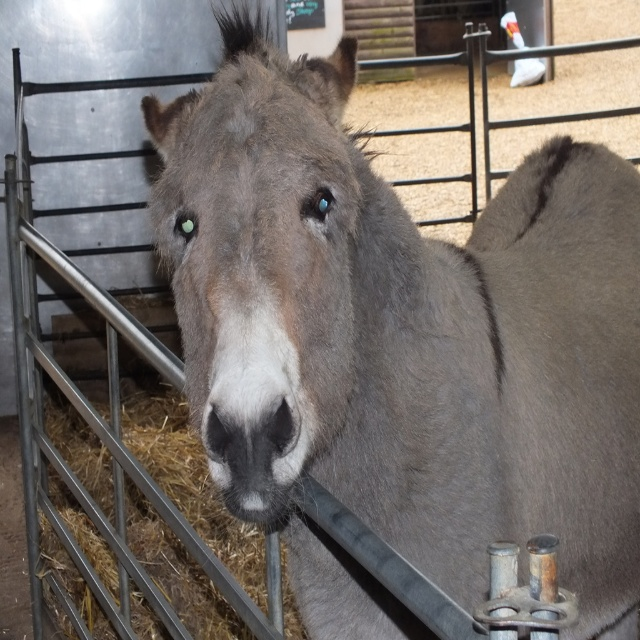Mule: (139, 0, 640, 640)
